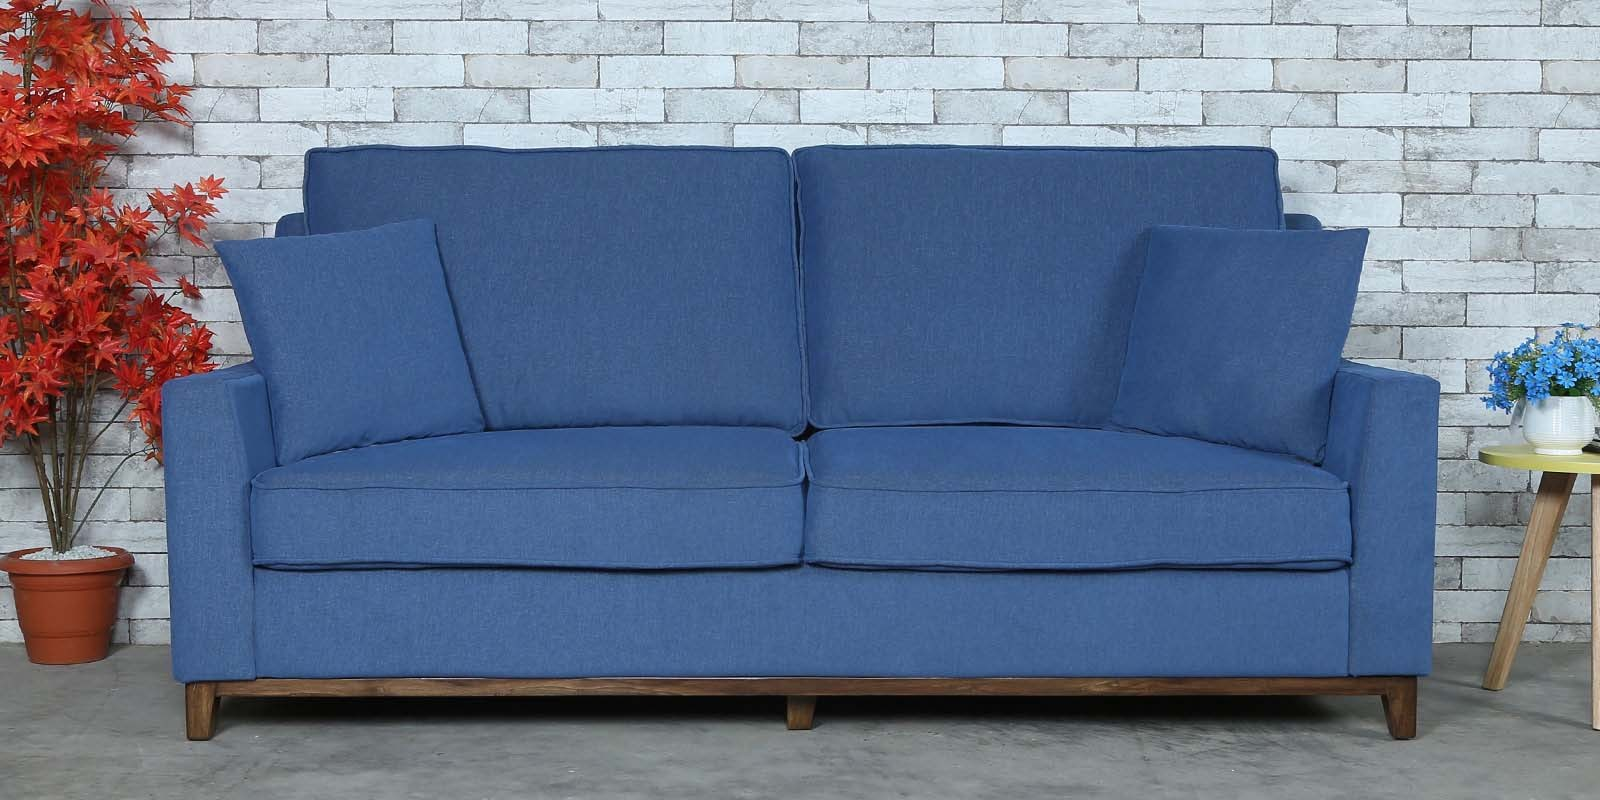Diego Three Seater Sofa in Denim Blue Colour by CasaCraft: (170, 136, 1448, 769)
